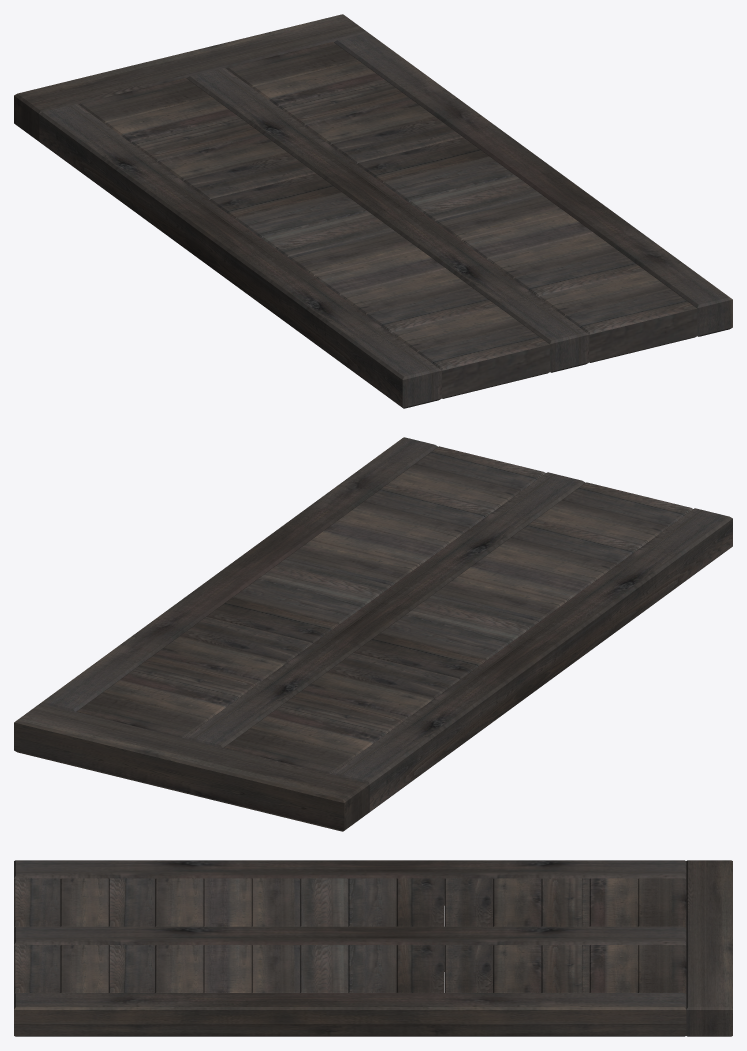
Rendered from SM_Unhyun_Norak_Floor_D001.fbx.
The picture shows the model from 3 angles, top to bottom: view 1: azimuth 30°, elevation 25°; view 2: azimuth 150°, elevation 25°; view 3: azimuth 270°, elevation 25°; orthographic projection. The views are drawn at different scales.
Parts seen in each view (by area): view 1: SM_Unhyun_Norak_Floor_D001; view 2: SM_Unhyun_Norak_Floor_D001; view 3: SM_Unhyun_Norak_Floor_D001.
Boxes of the visible parts, x1,y1,x2,y2 form: SM_Unhyun_Norak_Floor_D001: (14,14,732,408); SM_Unhyun_Norak_Floor_D001: (14,437,732,831); SM_Unhyun_Norak_Floor_D001: (14,860,732,1036).
Size of the model in its own units: 128 by 11.89 by 261.
